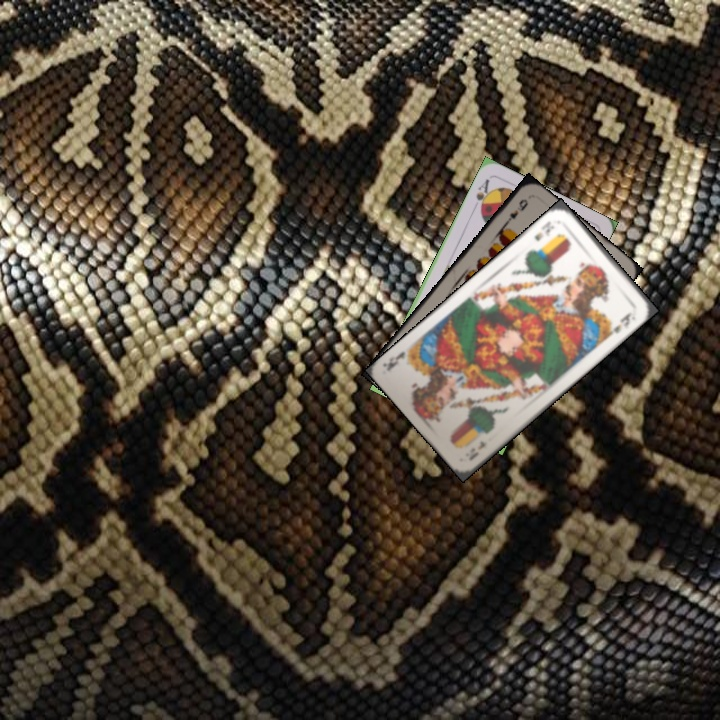E9: (501, 195, 531, 228)
EK: (530, 217, 557, 243), (465, 436, 488, 463)
SA: (472, 175, 494, 215)
